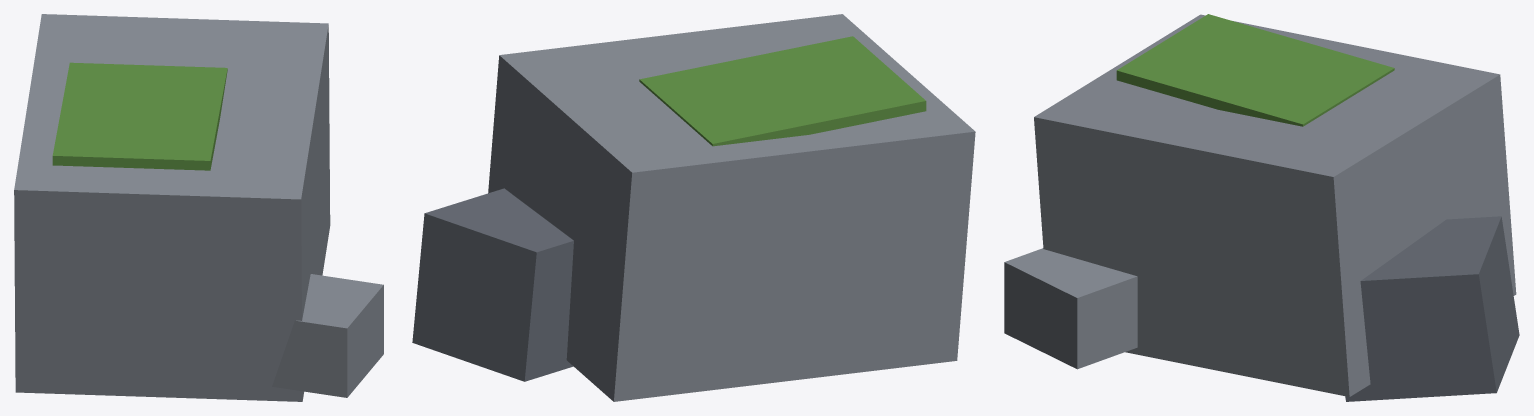
File: C03_rock_large.obj
The picture shows the model from 3 angles, left to right: view 1: azimuth 30°, elevation 25°; view 2: azimuth 150°, elevation 25°; view 3: azimuth 270°, elevation 25°; orthographic projection. The views are drawn at different scales.
Visible parts, largest first — view 1: C03_rock_large; view 2: C03_rock_large; view 3: C03_rock_large.
Boxes of the visible parts, x1,y1,x2,y2 form: C03_rock_large: (14,14,383,401); C03_rock_large: (412,14,975,401); C03_rock_large: (1004,14,1519,401).
Size of the model in its own units: 2.95 by 1.72 by 3.31.
